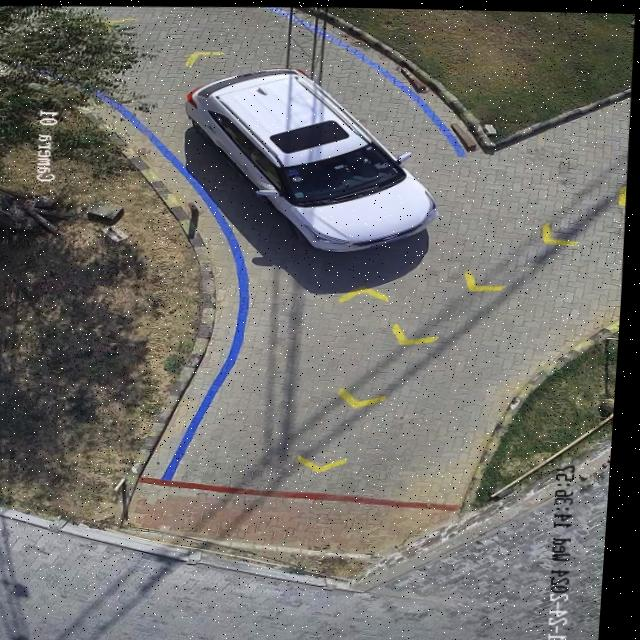car: (186, 67, 441, 249)
